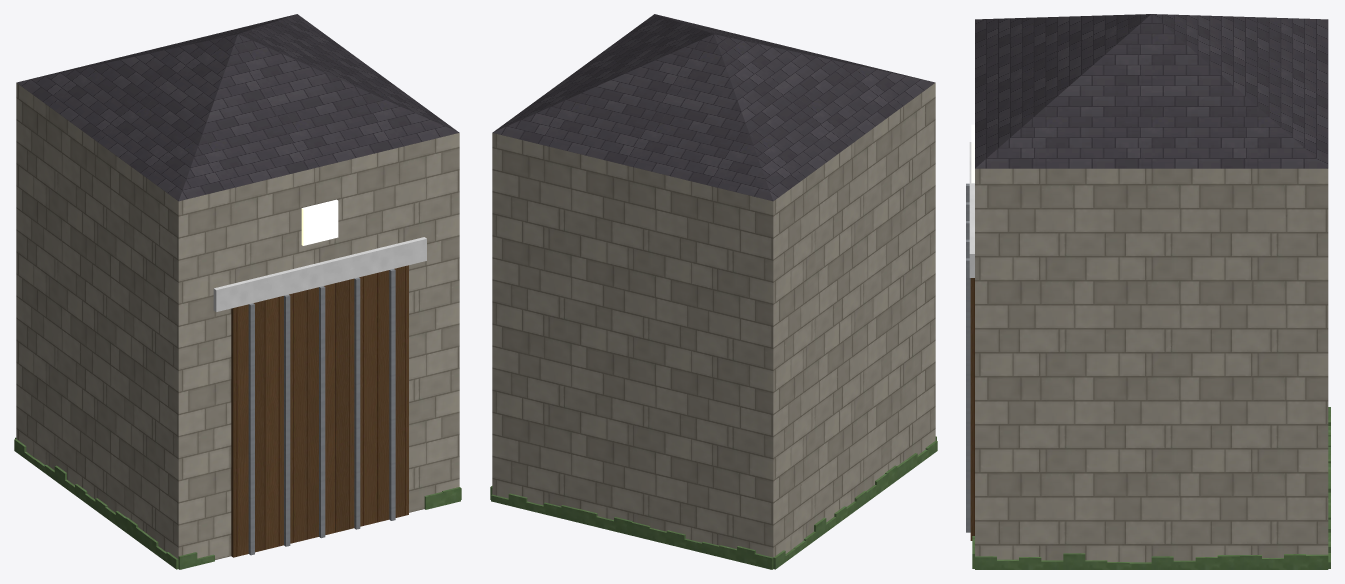
The model's file is gatehouse.glb.
3 renders of one model, left to right at view 1: azimuth 30°, elevation 25°; view 2: azimuth 150°, elevation 25°; view 3: azimuth 270°, elevation 25°, orthographic. The views are drawn at different scales.
Parts seen in each view (by area): view 1: castle.gatehouse; view 2: castle.gatehouse; view 3: castle.gatehouse.
Boxes of the visible parts, x1,y1,x2,y2 form: castle.gatehouse: (14,14,461,569); castle.gatehouse: (490,14,937,569); castle.gatehouse: (966,14,1330,569).
Size of the model in its own units: 4.06 by 6 by 4.13.
7 materials, 6 textured.
